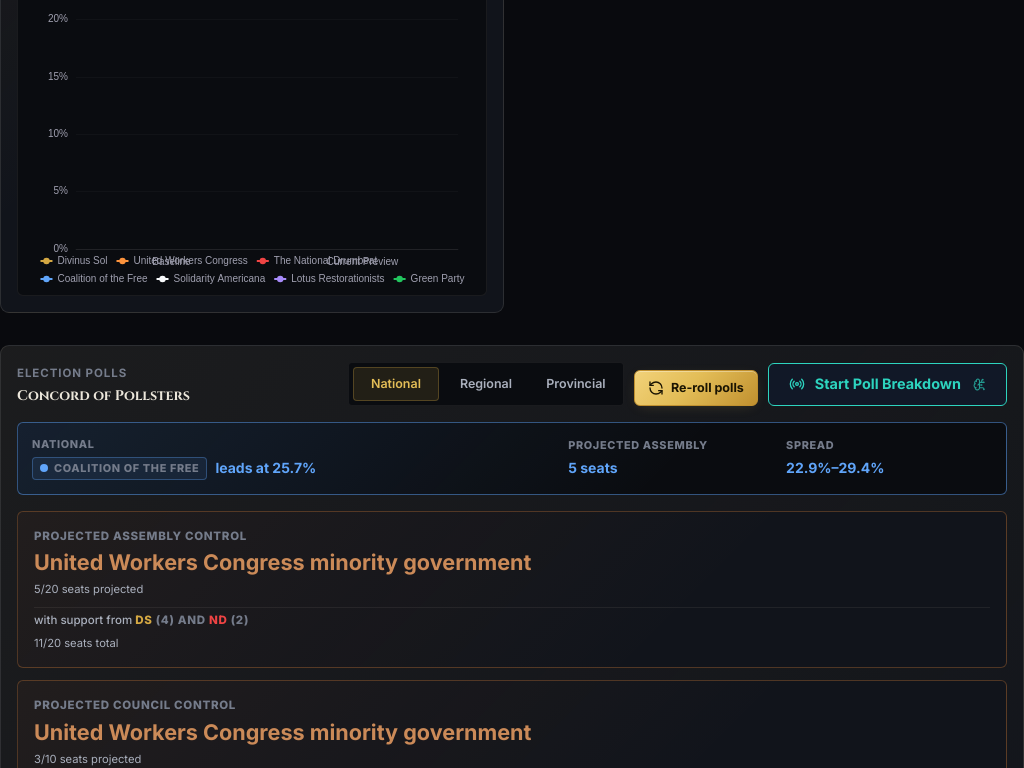
Scenario: election result pages › renders pre-election climate controls and polls
The image size is (1024, 768).
(page scrolled)
Click the button "Start Poll Breakdown" at (887, 384), box [768,363,1007,406]
(page scrolled)
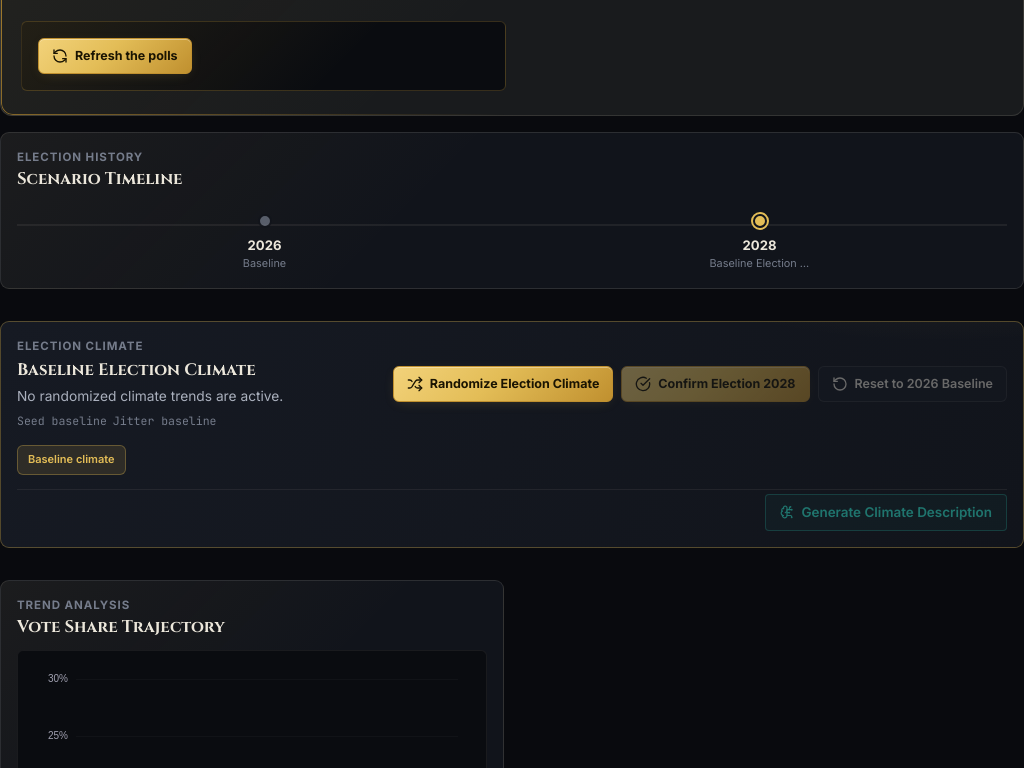
Click the button "Randomize Election Climate" at (503, 384), box [393,366,613,402]
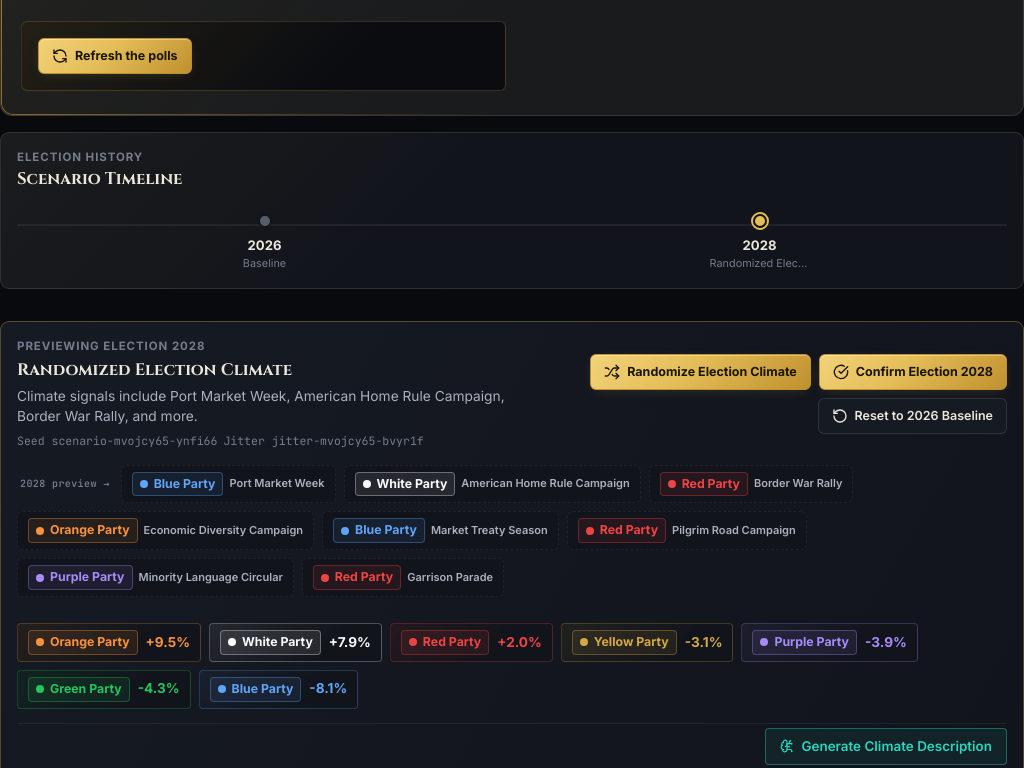
Click the button with class "btn-ai" at (886, 746), box [765,728,1007,765]
(page scrolled)
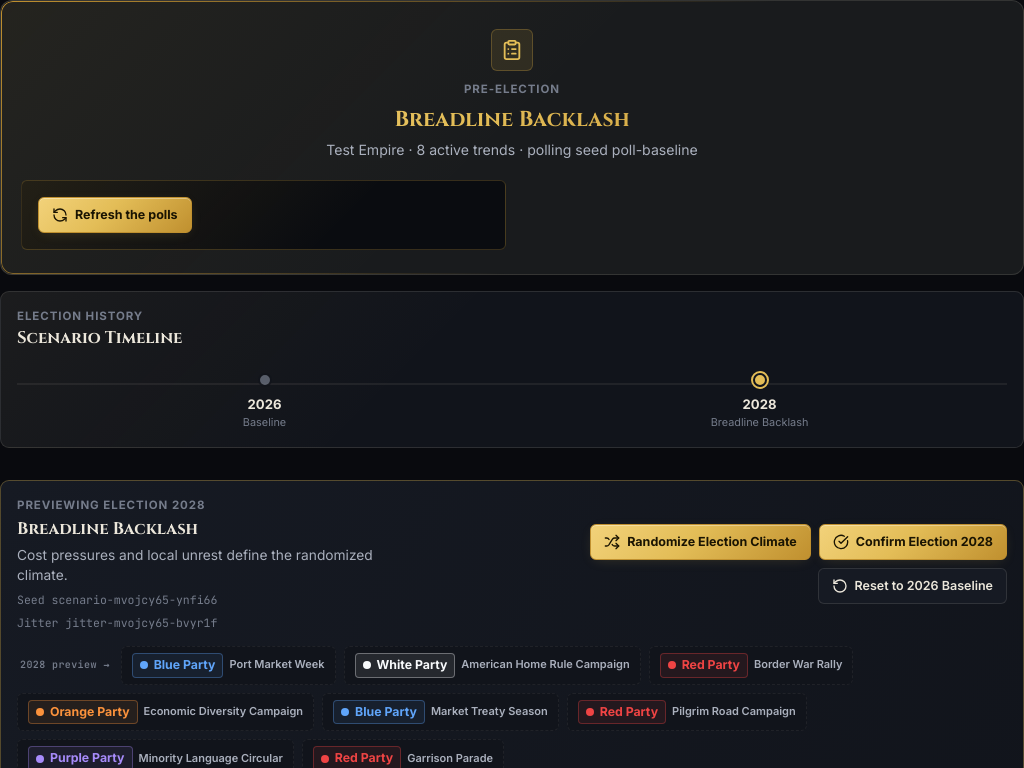
expect the heading "Breadline Backlash" below "Pre-Election" is shown: met, box [394,105,630,134]
expect the text "Breadline Backlash" is shown: met, box [21,104,1003,135]
